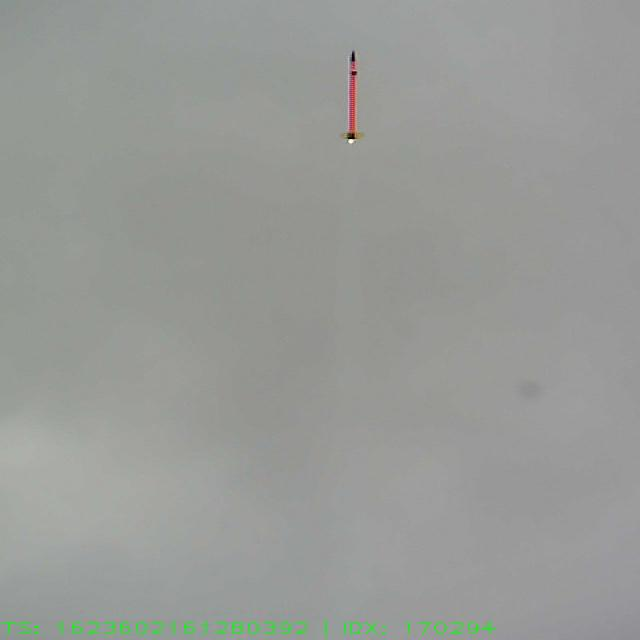Rocket: (338, 49, 365, 140)
